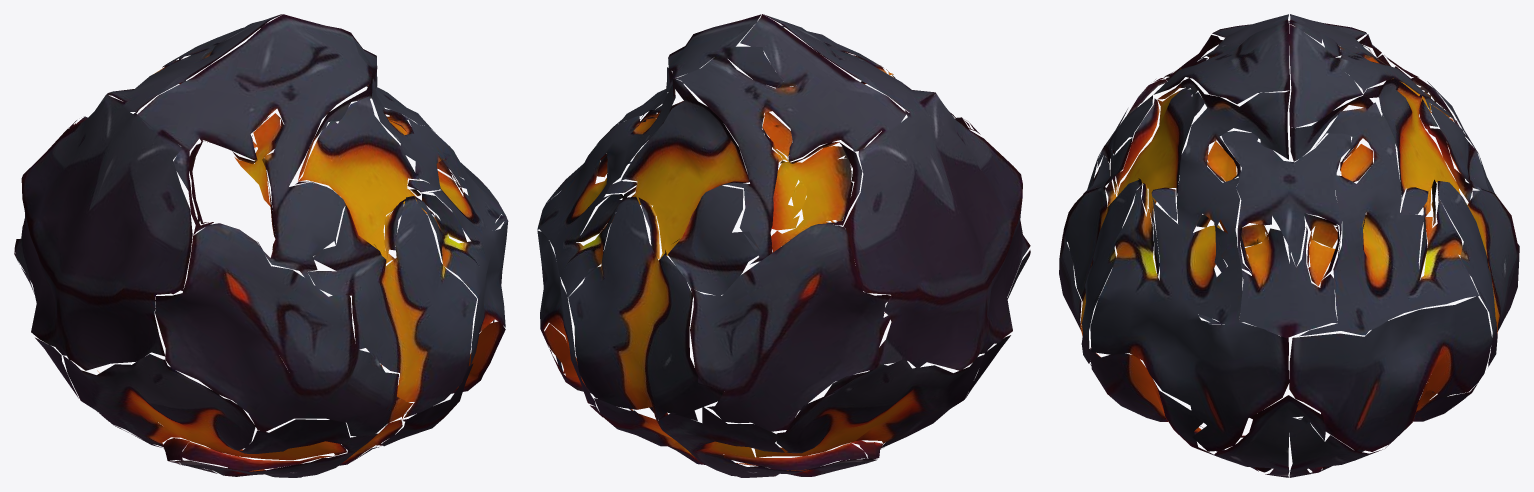
The model's file is volkan_kaya.glb.
3 views of the same model, side by side, from view 1: azimuth 30°, elevation 25°; view 2: azimuth 150°, elevation 25°; view 3: azimuth 270°, elevation 25° (orthographic). The views are drawn at different scales.
Visible parts, largest first — view 1: geometry_0; view 2: geometry_0; view 3: geometry_0.
Boxes of the visible parts, left/top/right/bottom form: geometry_0: left=14, top=14, right=508, bottom=477; geometry_0: left=537, top=14, right=1030, bottom=477; geometry_0: left=1059, top=14, right=1519, bottom=477.
Bounding box in the file's own units: 0.9917 × 0.9807 × 0.946.
1 material, 1 textured.
